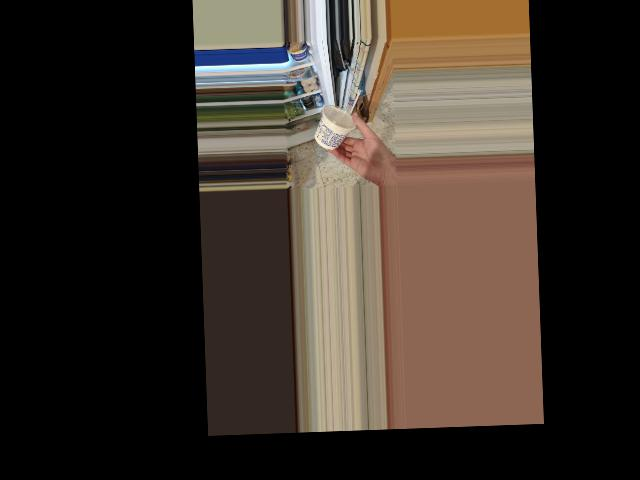cotage: (315, 104, 358, 146)
